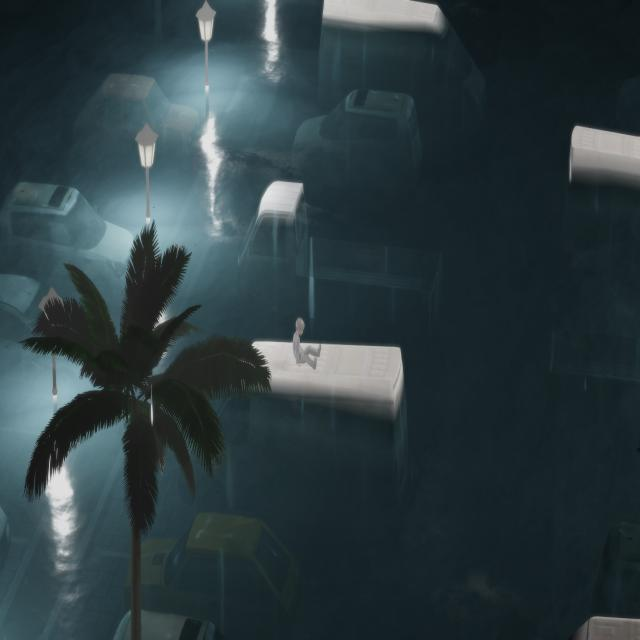Human: (286, 316, 331, 376)
